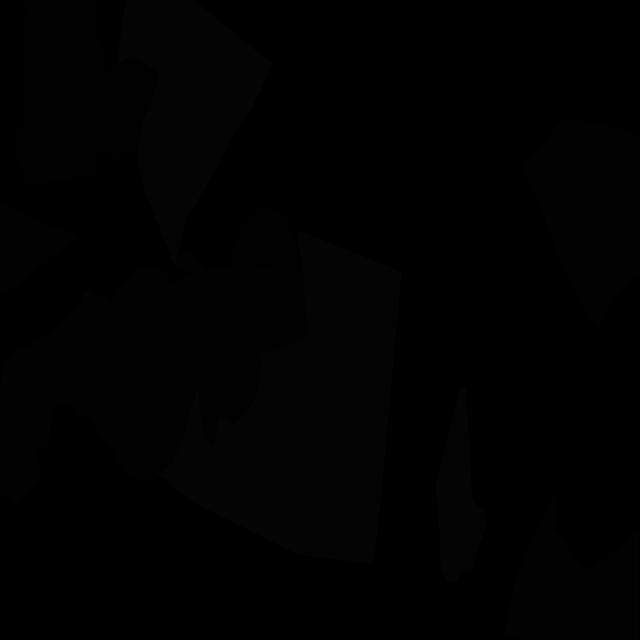cardboard: (28, 267, 192, 482), (523, 117, 640, 328), (176, 251, 308, 423), (504, 493, 639, 640), (166, 271, 246, 447), (0, 339, 58, 505), (0, 204, 80, 294)
rigid_plastic: (16, 0, 160, 188), (230, 208, 298, 273)
soft_plastic: (159, 230, 402, 564), (116, 0, 273, 268), (436, 387, 485, 584)
